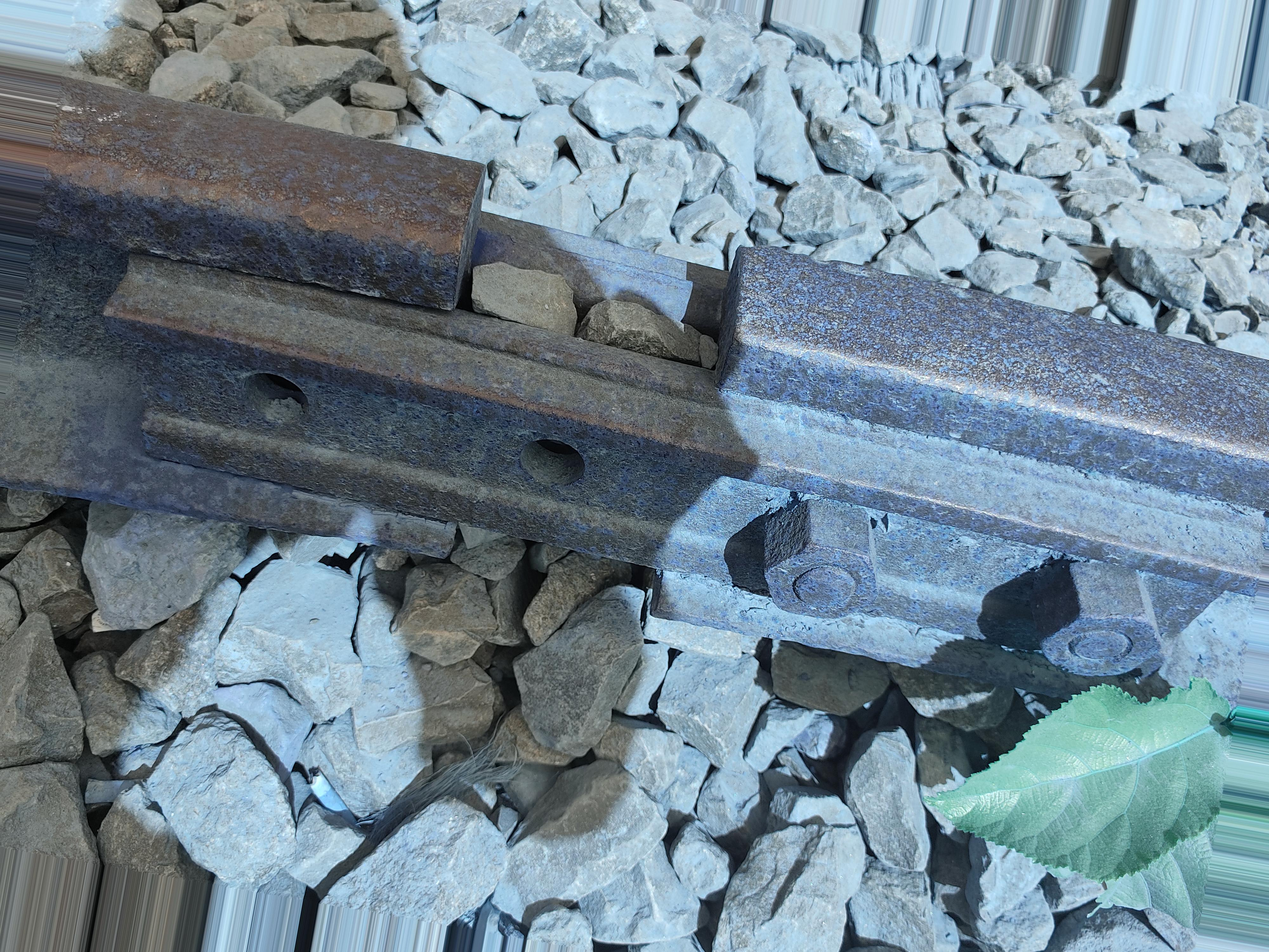tracks_fault: (138, 78, 799, 614)
